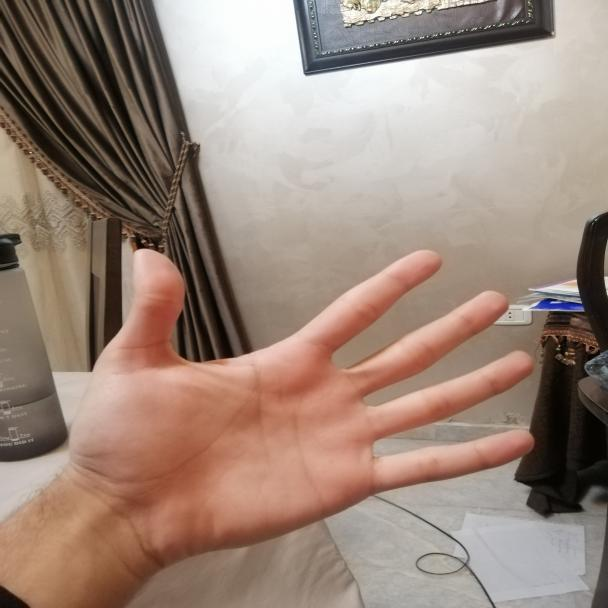five: (83, 238, 546, 555)
